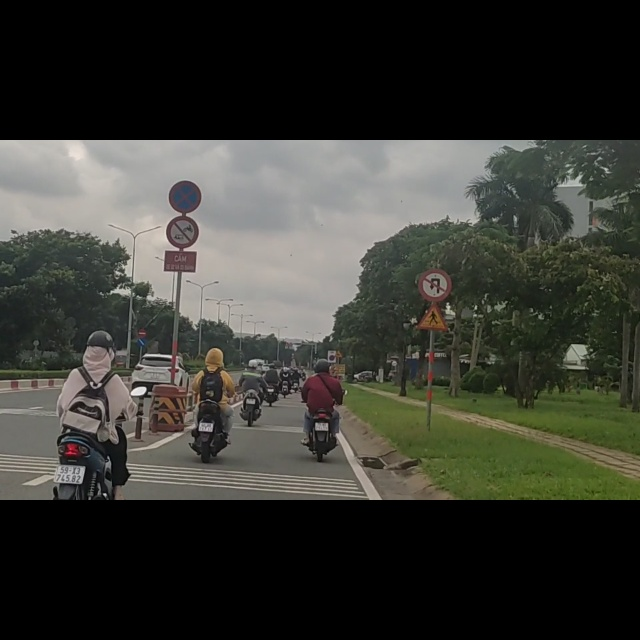bien_nguy_hiem: (169, 72, 202, 129), (167, 135, 199, 193), (419, 228, 451, 286), (417, 292, 447, 339), (137, 334, 147, 351), (138, 352, 146, 367)
